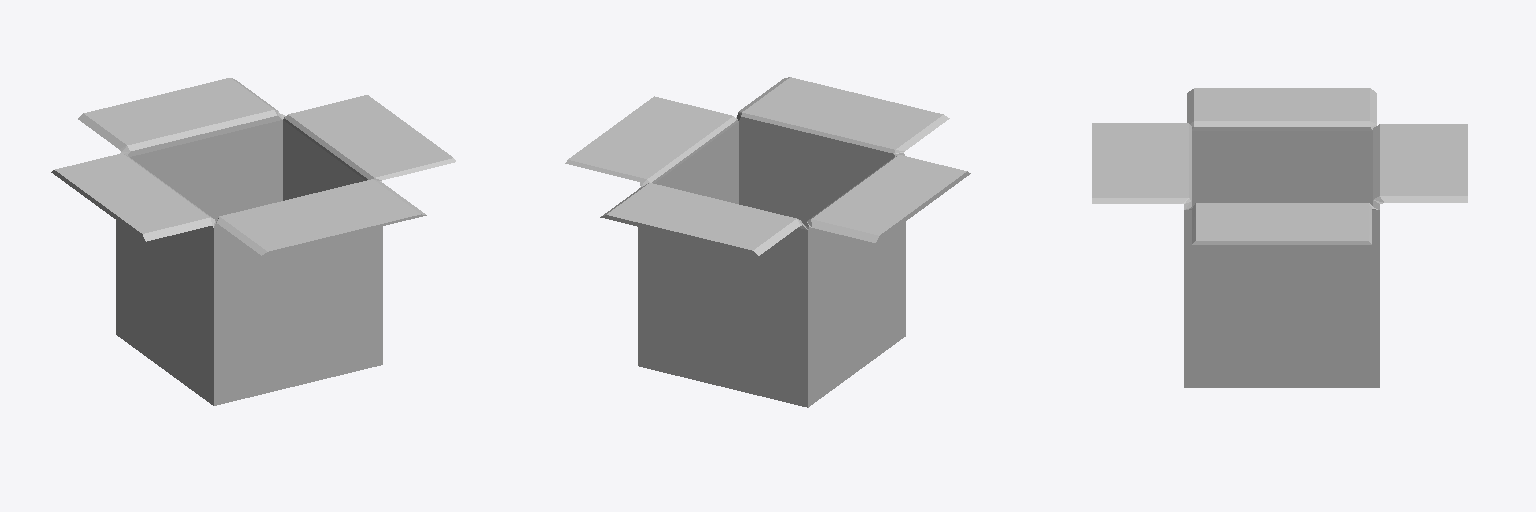
The model's file is Box_Small_Blockout.obj.
The picture shows the model from 3 angles: view 1: azimuth 30°, elevation 25°; view 2: azimuth 150°, elevation 25°; view 3: azimuth 270°, elevation 25°; orthographic projection.
Visible parts, largest first — view 1: Box_Small; view 2: Box_Small; view 3: Box_Small.
Part boxes in pixels (bbox=[...]): Box_Small: bbox=[51, 78, 455, 405]; Box_Small: bbox=[565, 77, 970, 407]; Box_Small: bbox=[1092, 88, 1467, 387].
Size of the model in its own units: 115 by 65.24 by 119.